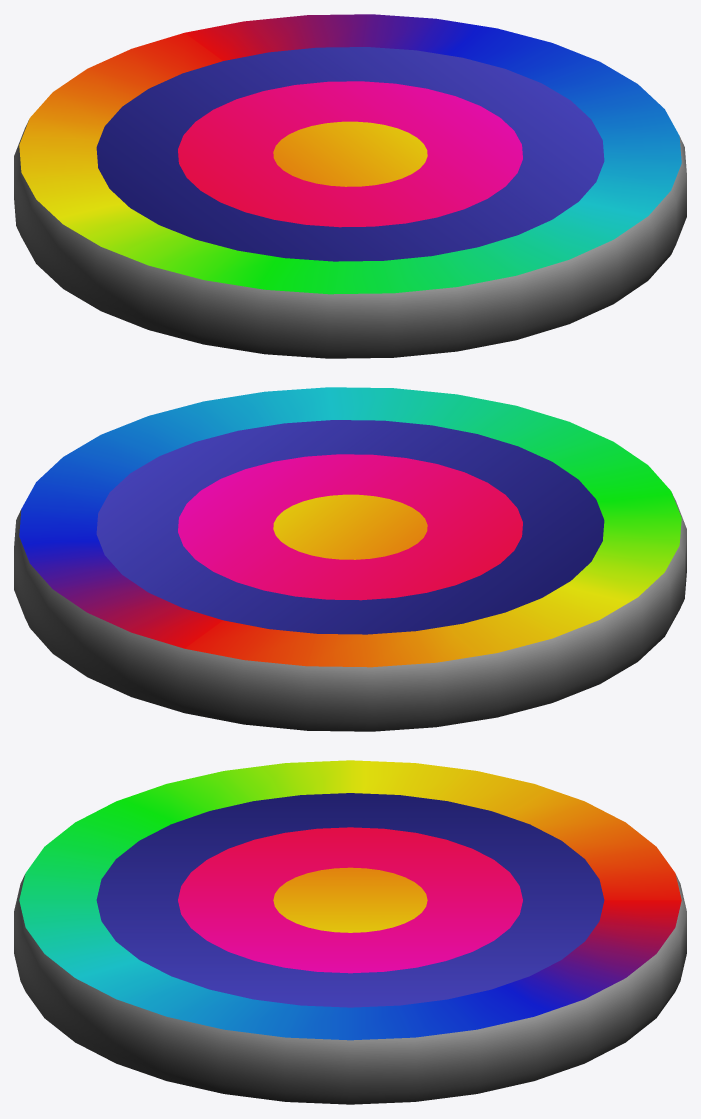
The model's file is SM_DianaCollider.fbx.
3 views of the same model, one above another, from view 1: azimuth 30°, elevation 25°; view 2: azimuth 150°, elevation 25°; view 3: azimuth 270°, elevation 25° (orthographic).
Visible parts, largest first — view 1: Diana.001; view 2: Diana.001; view 3: Diana.001.
Part boxes in pixels (bbox=[...]): Diana.001: bbox=[14, 14, 686, 358]; Diana.001: bbox=[14, 387, 686, 731]; Diana.001: bbox=[14, 760, 686, 1104].
Bounding box in the file's own units: 100 × 10.55 × 100.
